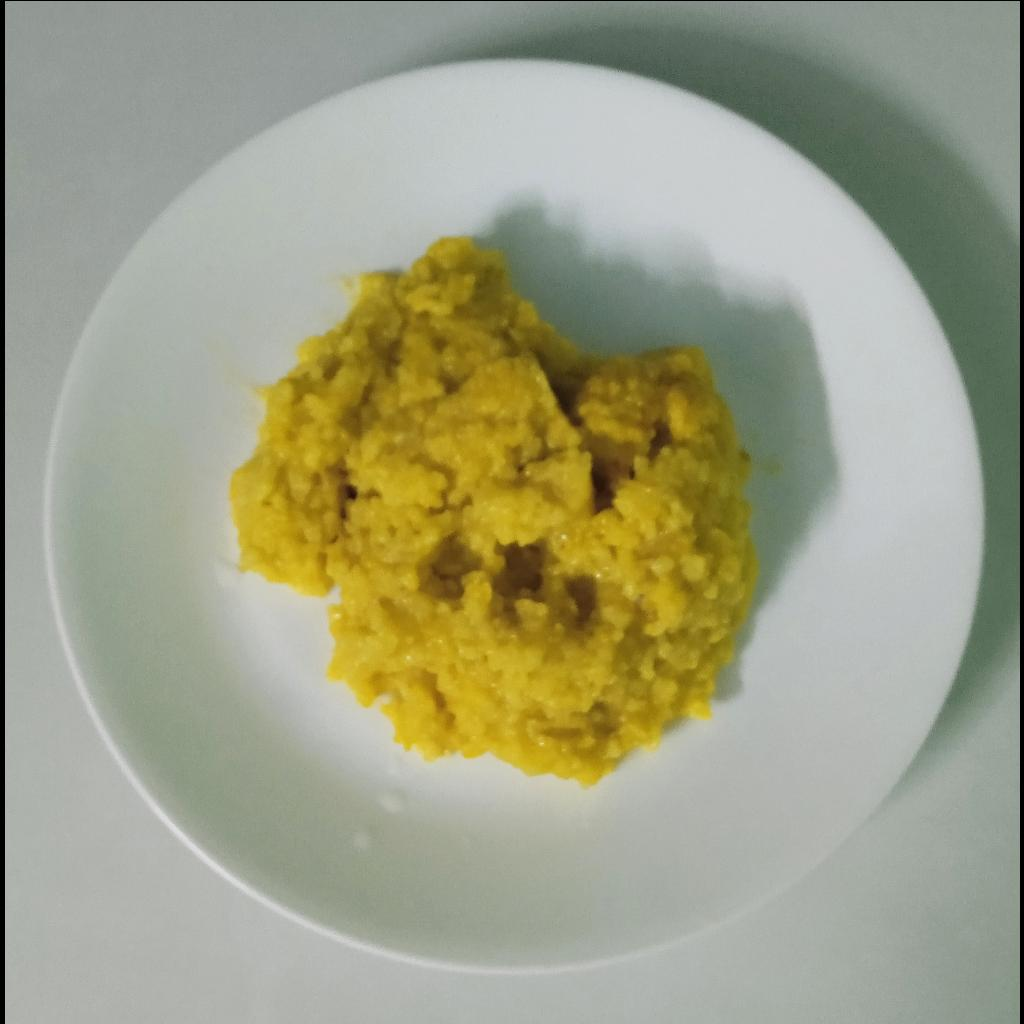khichuri: (229, 226, 768, 783)
